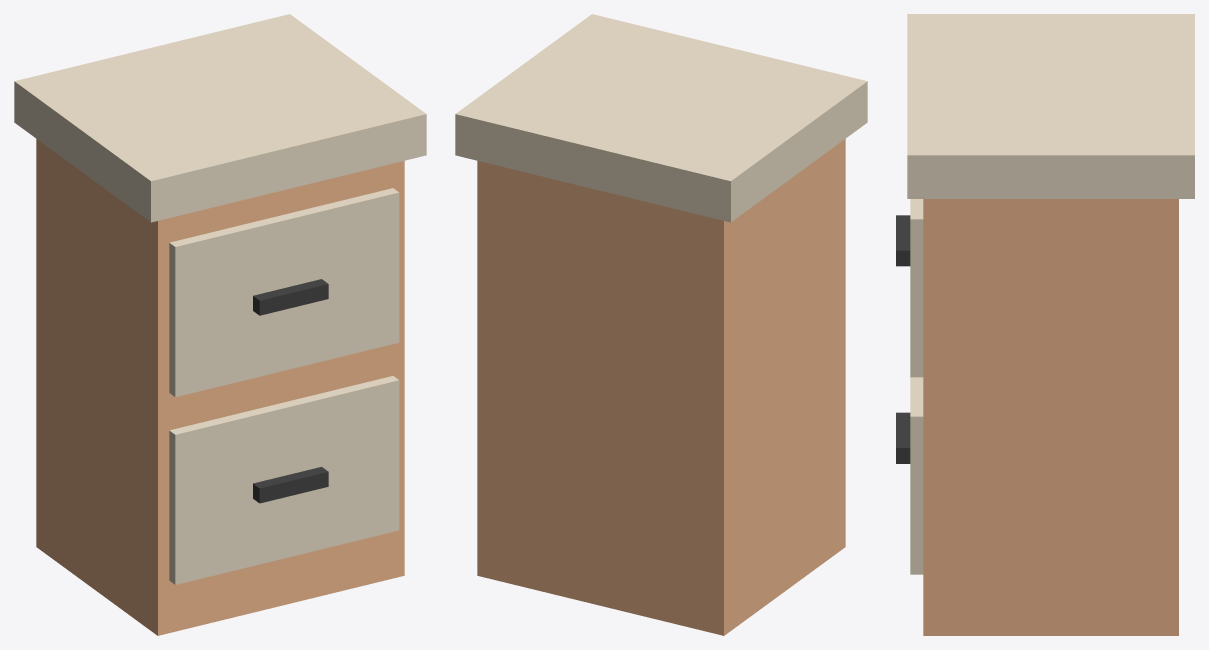
3 renders of one model, left to right at view 1: azimuth 30°, elevation 25°; view 2: azimuth 150°, elevation 25°; view 3: azimuth 270°, elevation 25°, orthographic. The views are drawn at different scales.
Parts seen in each view (by area): view 1: Body, Top, Drawer.001, Drawer, Grip, Grip.001; view 2: Body, Top; view 3: Body, Top, Drawer, Drawer.001, Grip, Grip.001.
Part boxes in pixels (bbox=[...]): Body: bbox=[36, 139, 404, 635]; Top: bbox=[14, 14, 426, 222]; Drawer.001: bbox=[169, 188, 399, 397]; Drawer: bbox=[169, 376, 399, 584]; Grip: bbox=[253, 466, 328, 503]; Grip.001: bbox=[253, 279, 328, 315]; Body: bbox=[477, 139, 845, 635]; Top: bbox=[455, 14, 867, 222]; Body: bbox=[923, 199, 1178, 635]; Top: bbox=[907, 14, 1194, 198]; Drawer: bbox=[910, 377, 923, 574]; Drawer.001: bbox=[910, 199, 923, 377]; Grip: bbox=[896, 412, 910, 463]; Grip.001: bbox=[896, 215, 910, 266].
Size of the model in its own units: 57.6 by 92.63 by 51.42.
